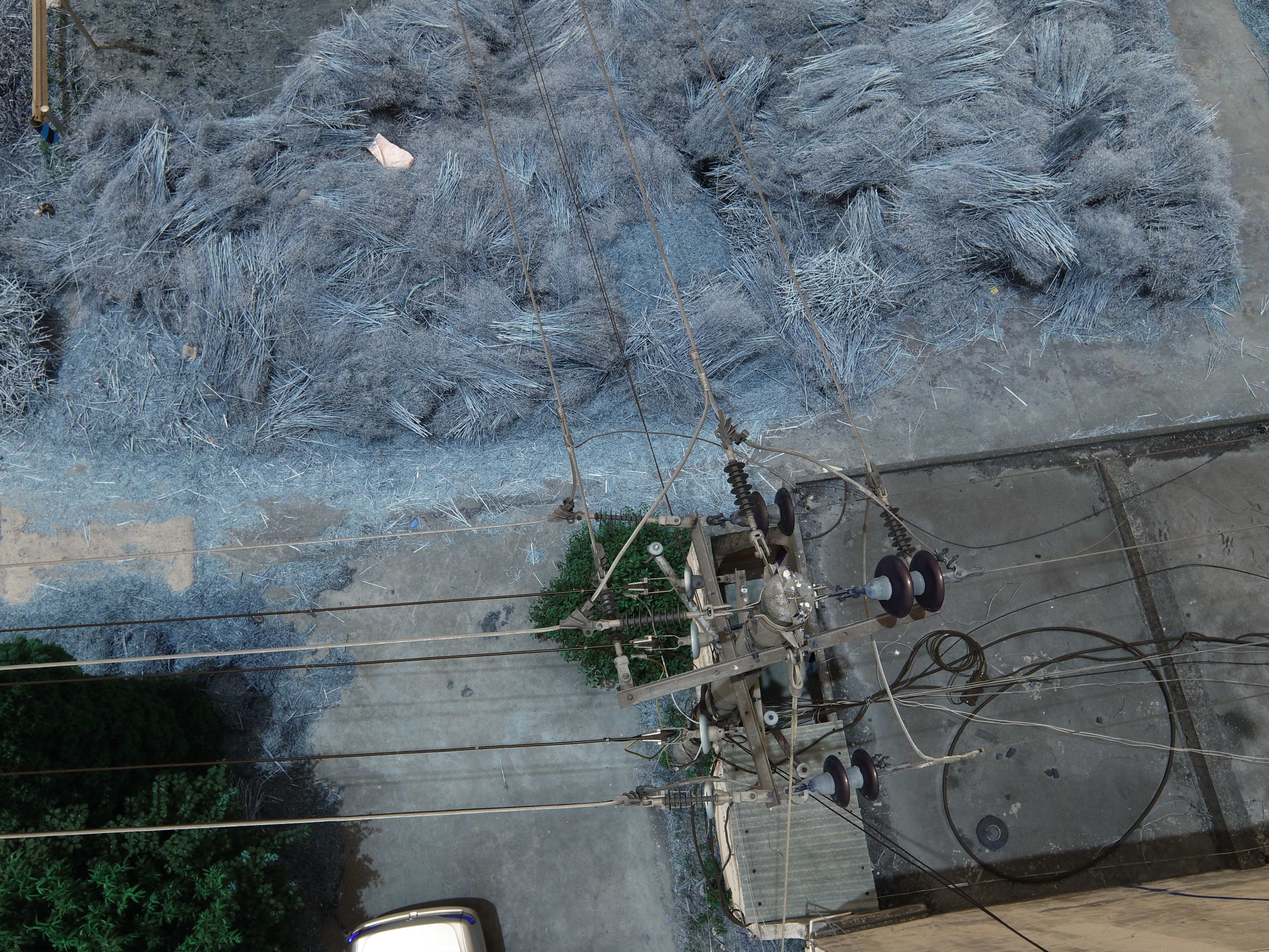severe_soiling_no_discharge_whole: (682, 559, 703, 603)
